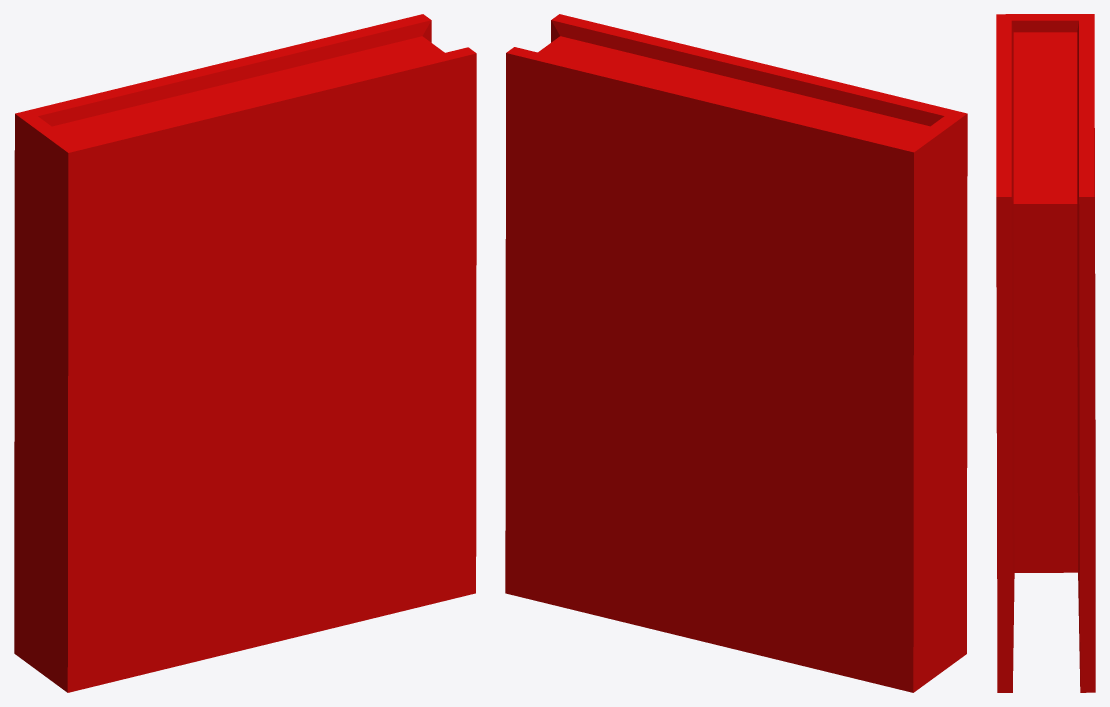
Rendered from ActionBook.fbx.
3 views of the same model, side by side, from view 1: azimuth 30°, elevation 25°; view 2: azimuth 150°, elevation 25°; view 3: azimuth 270°, elevation 25° (orthographic). The views are drawn at different scales.
Visible parts, largest first — view 1: ActionBook; view 2: ActionBook; view 3: ActionBook.
Boxes of the visible parts, x1,y1,x2,y2 form: ActionBook: [14, 14, 476, 692]; ActionBook: [505, 14, 967, 692]; ActionBook: [996, 14, 1095, 692].
Size of the model in its own units: 27.17 by 34.37 by 6.24.
